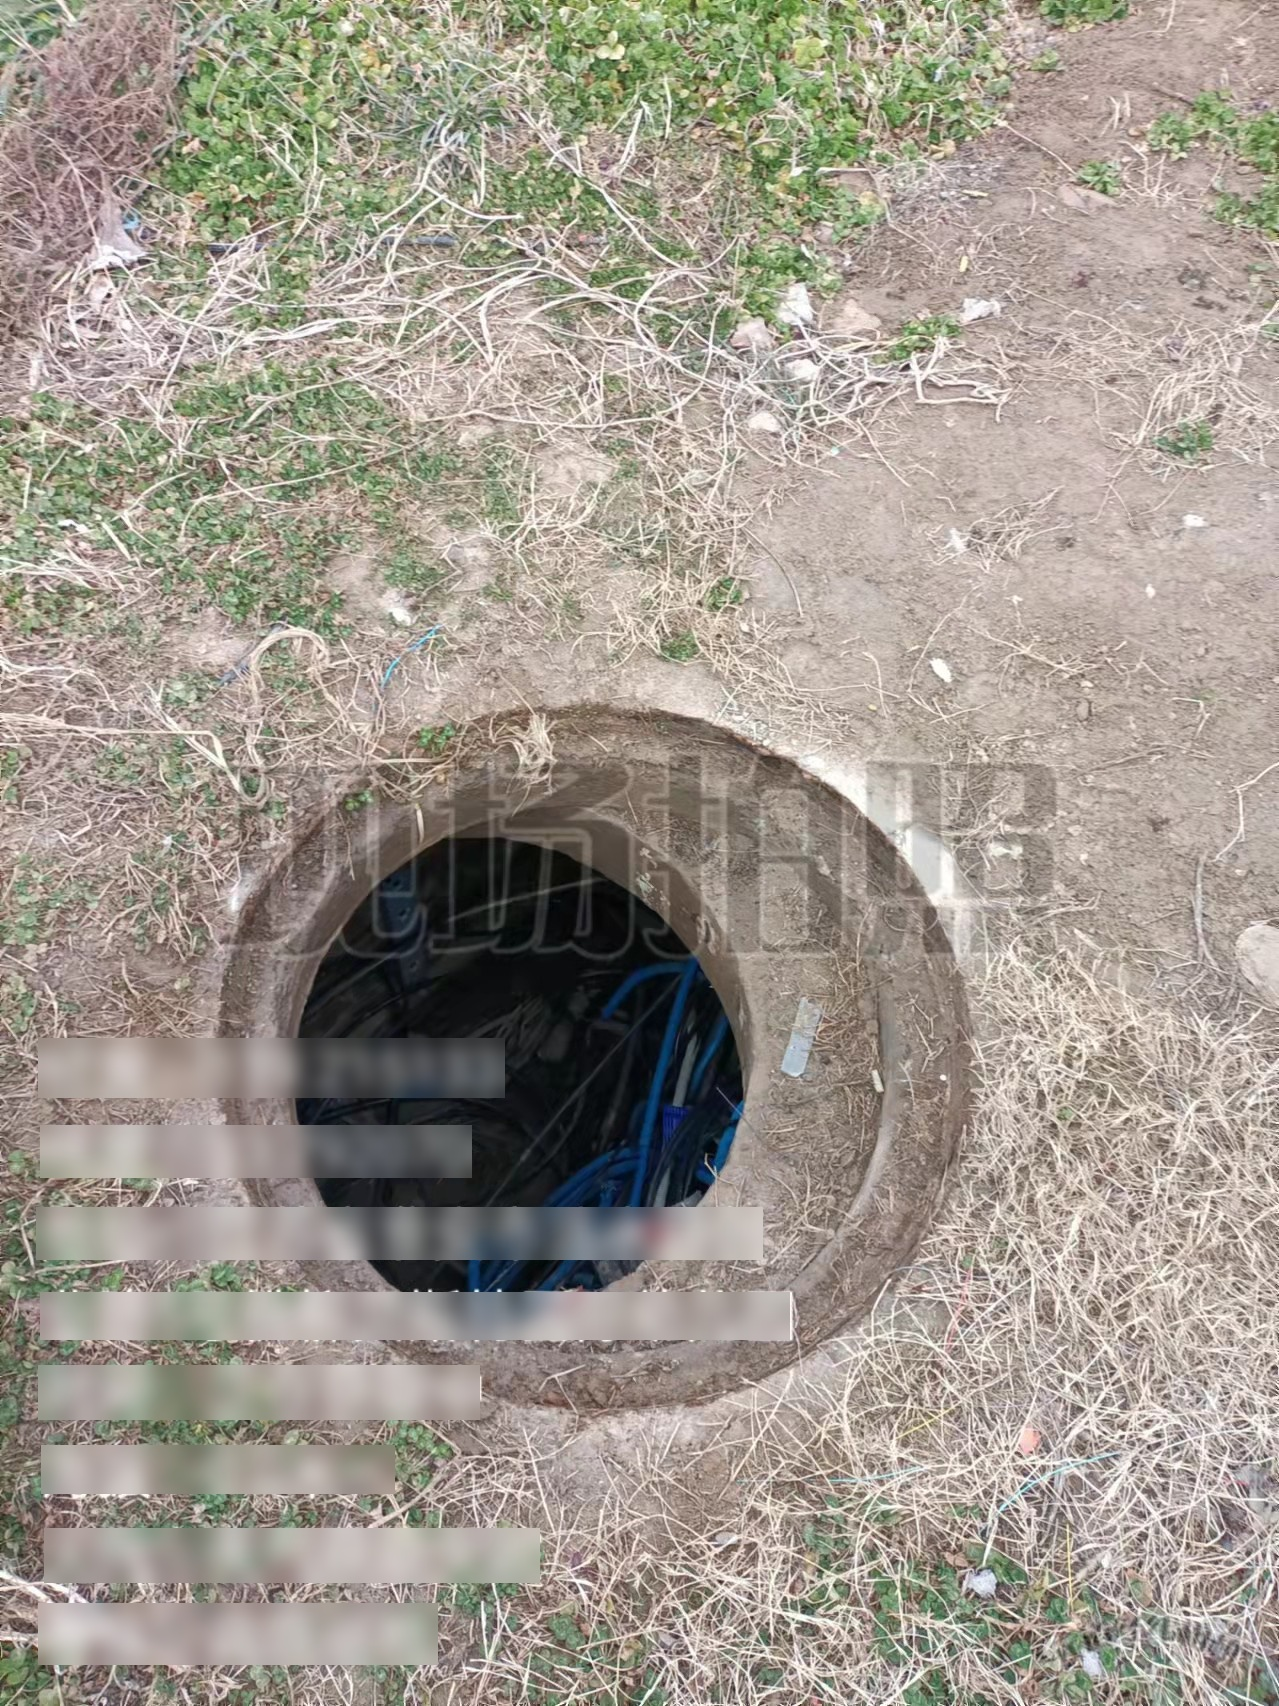well: (185, 688, 994, 1400)
